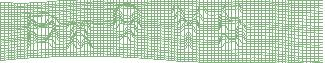5: (217, 3, 249, 51)
9: (111, 2, 144, 47)
B: (26, 11, 61, 52)
Y: (168, 4, 208, 53)
x: (64, 20, 96, 53)
